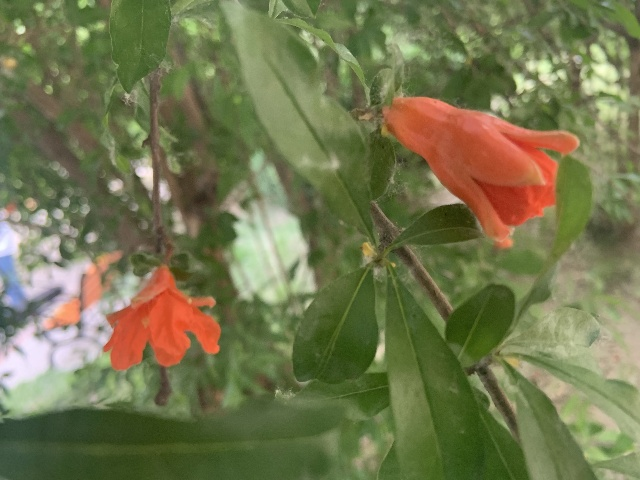flower: (381, 96, 582, 245), (103, 264, 220, 370)
